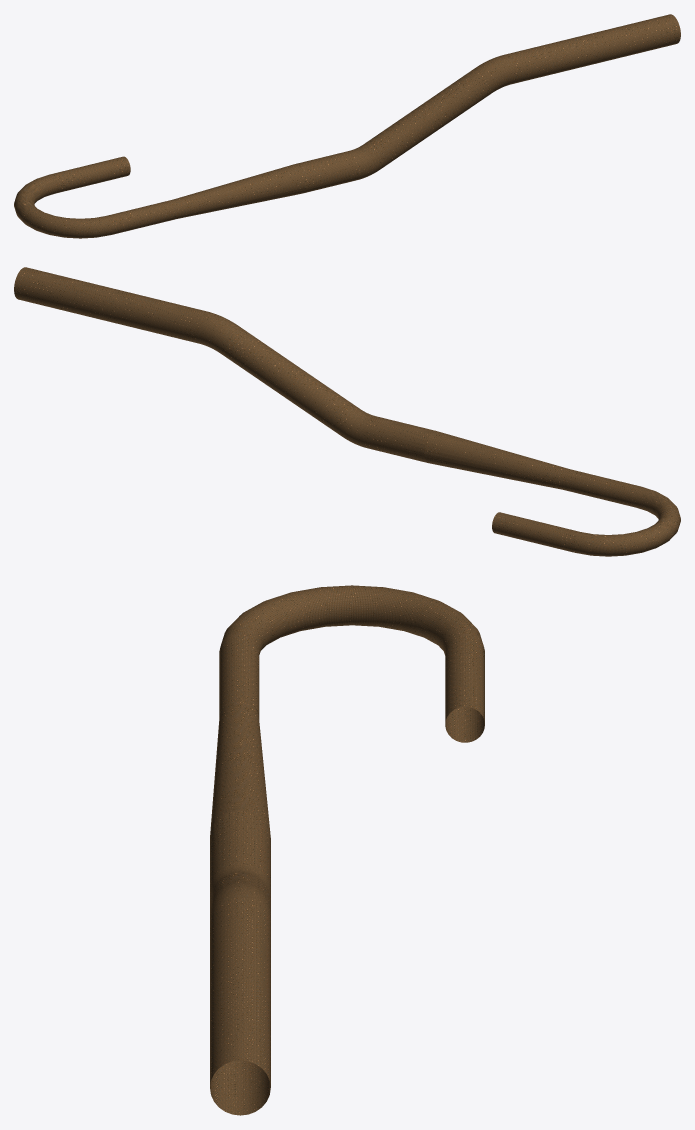
File: CartersAccurate.dae
3 views of the same model, one above another, from view 1: azimuth 30°, elevation 25°; view 2: azimuth 150°, elevation 25°; view 3: azimuth 270°, elevation 25° (orthographic). The views are drawn at different scales.
Visible parts, largest first — view 1: SketchUp (×2); view 2: SketchUp (×2); view 3: SketchUp (×2).
Part boxes in pixels (x1,y1,x2,y2): SketchUp (×2): (14,14,680,238); SketchUp (×2): (14,267,680,556); SketchUp (×2): (210,585,484,1115).
Bounding box in the file's own units: 5115 × 979 × 674.
Materials: 1 (1 with a texture image).
